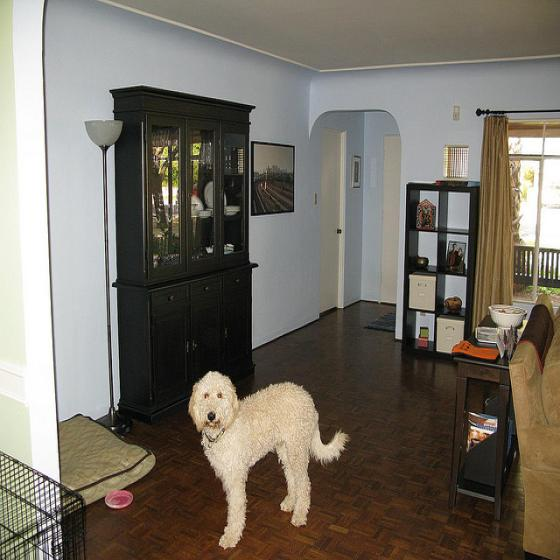bowl: (488, 304, 527, 330)
couch: (503, 293, 560, 553)
dog: (189, 372, 346, 551)
